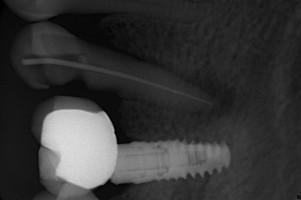Furcation Involvement: (188, 70, 237, 123)
